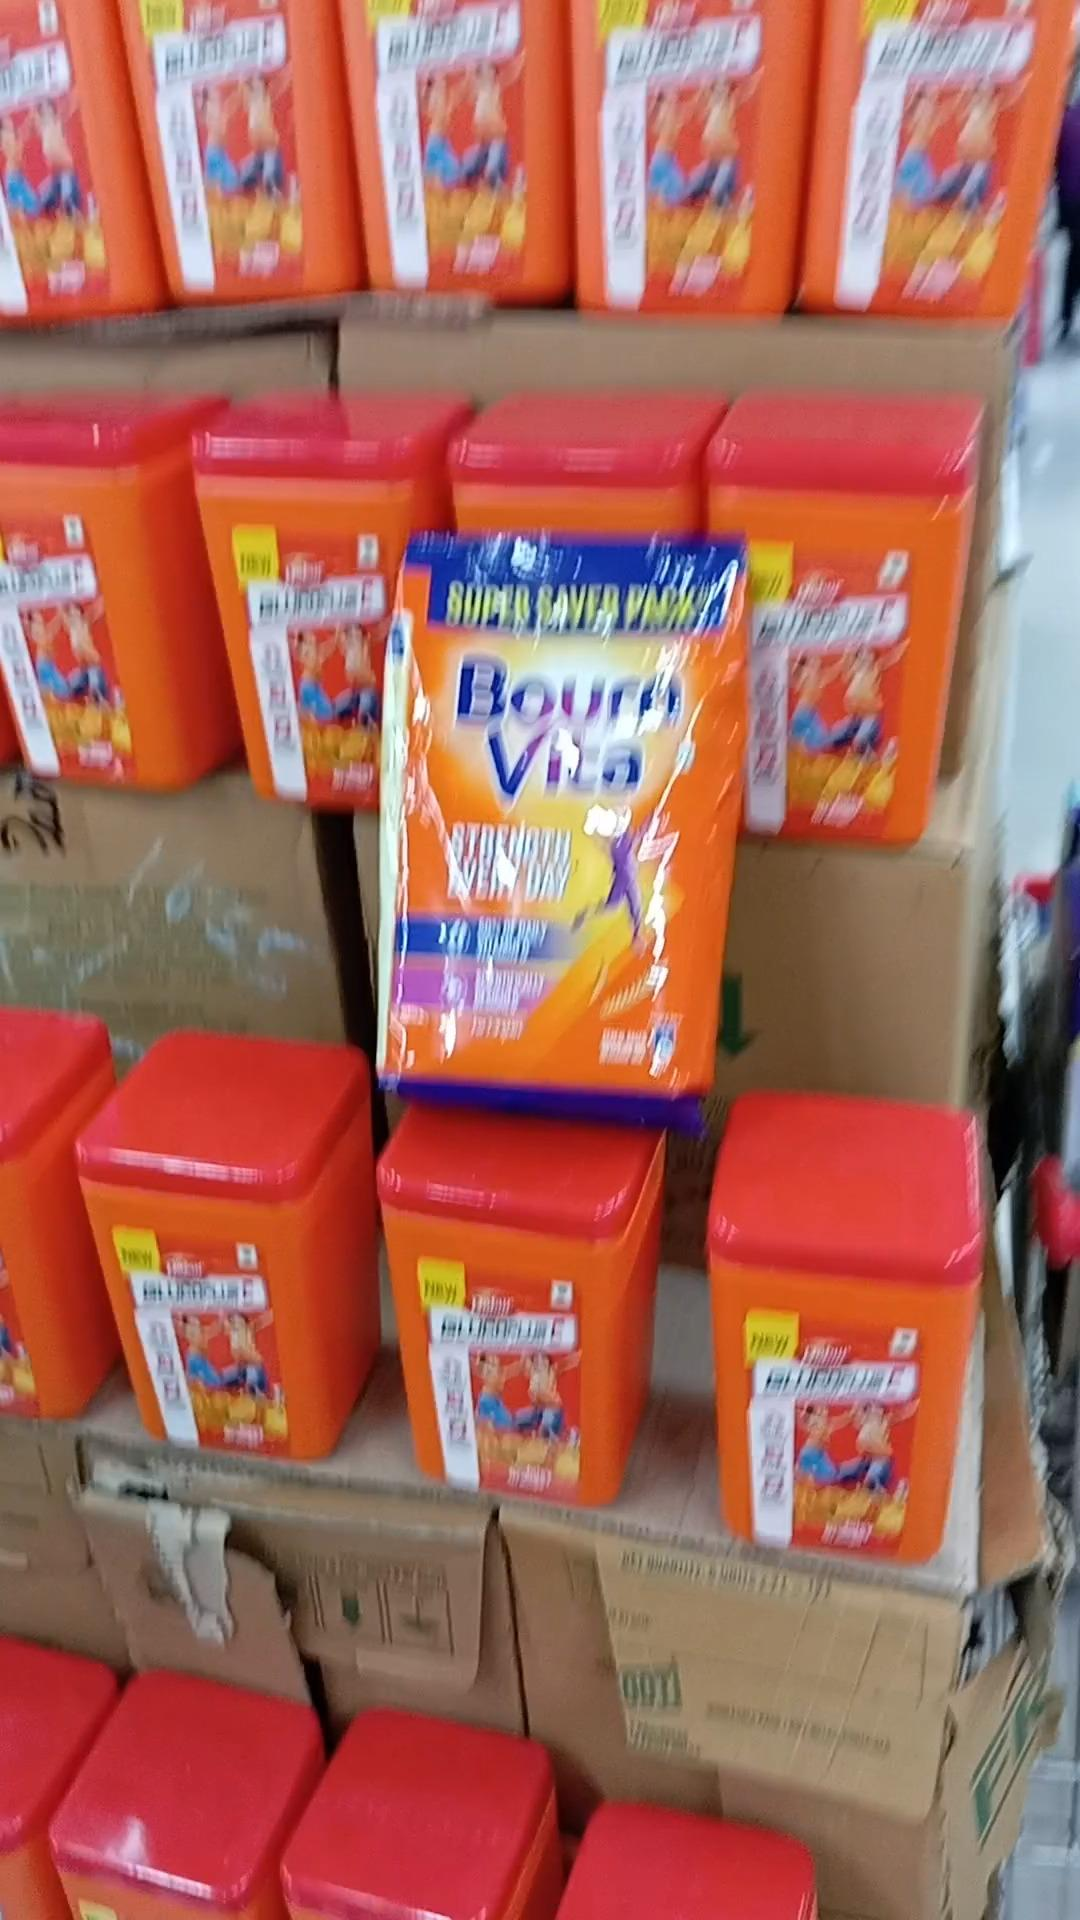BOURN_VITA_1_KG_POUCH: (381, 513, 731, 1122)
